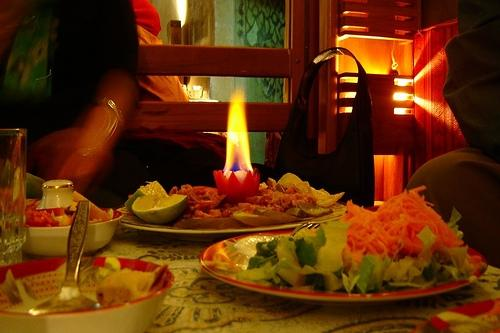carrot: (374, 222, 391, 242), (360, 205, 379, 219), (384, 193, 402, 207), (406, 217, 420, 231), (369, 242, 384, 254), (404, 202, 424, 209), (368, 228, 378, 242), (387, 223, 399, 233), (412, 237, 424, 247), (442, 221, 450, 235), (428, 222, 438, 233), (399, 227, 408, 239), (471, 255, 481, 265), (450, 241, 464, 248), (399, 213, 406, 225), (392, 248, 402, 256), (424, 201, 436, 207), (351, 219, 365, 224), (356, 229, 366, 236), (356, 246, 364, 254), (347, 234, 357, 240), (352, 239, 356, 254), (440, 227, 446, 237), (354, 216, 368, 220), (384, 221, 392, 227), (354, 204, 360, 210), (431, 208, 437, 214), (410, 212, 416, 216), (414, 196, 420, 200), (414, 218, 426, 220), (388, 213, 390, 222), (380, 204, 382, 213), (408, 248, 416, 250)
lettuce: (314, 221, 352, 272), (274, 236, 308, 288), (288, 226, 326, 269), (388, 260, 434, 290), (355, 254, 383, 294), (416, 226, 439, 264), (235, 262, 273, 281), (342, 260, 361, 296), (440, 267, 470, 285), (396, 257, 414, 282), (446, 206, 462, 234), (382, 258, 400, 282), (304, 273, 324, 291), (237, 278, 272, 287), (254, 251, 274, 259)
lime: (131, 193, 188, 224), (124, 180, 167, 212)
